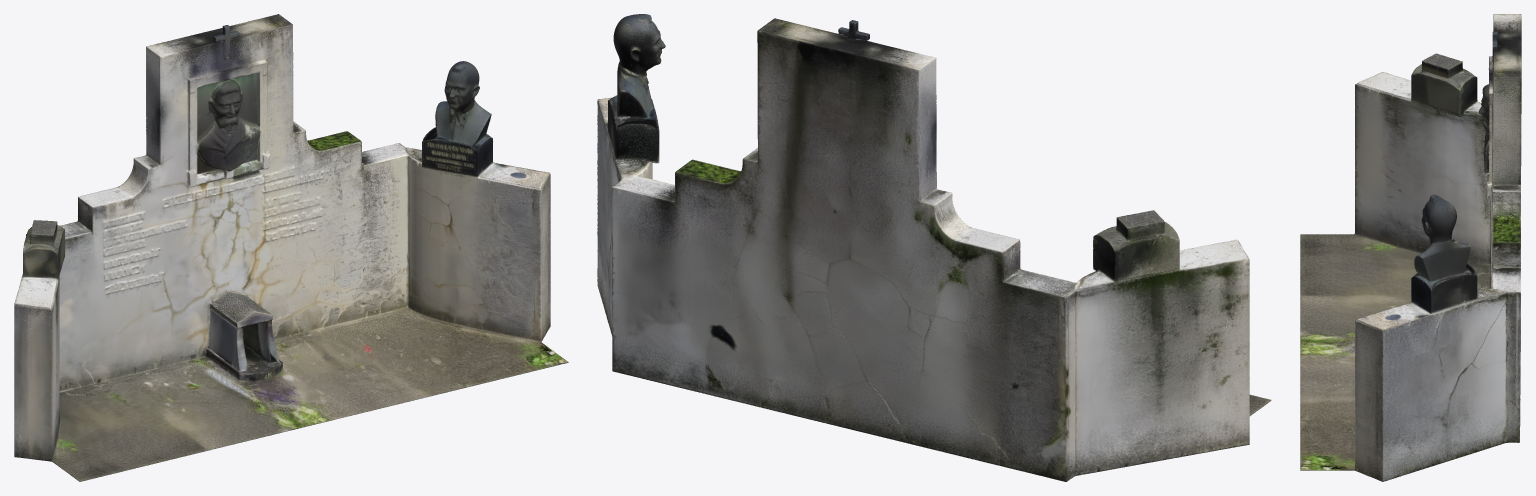
The model's file is Jovan Jovanovic Joska.glb.
3 renders of one model, left to right at view 1: azimuth 30°, elevation 25°; view 2: azimuth 150°, elevation 25°; view 3: azimuth 270°, elevation 25°, orthographic. The views are drawn at different scales.
Bounding box in the file's own units: 1.9 × 1.1 × 0.6872.
Materials: 1 (1 with a texture image).
